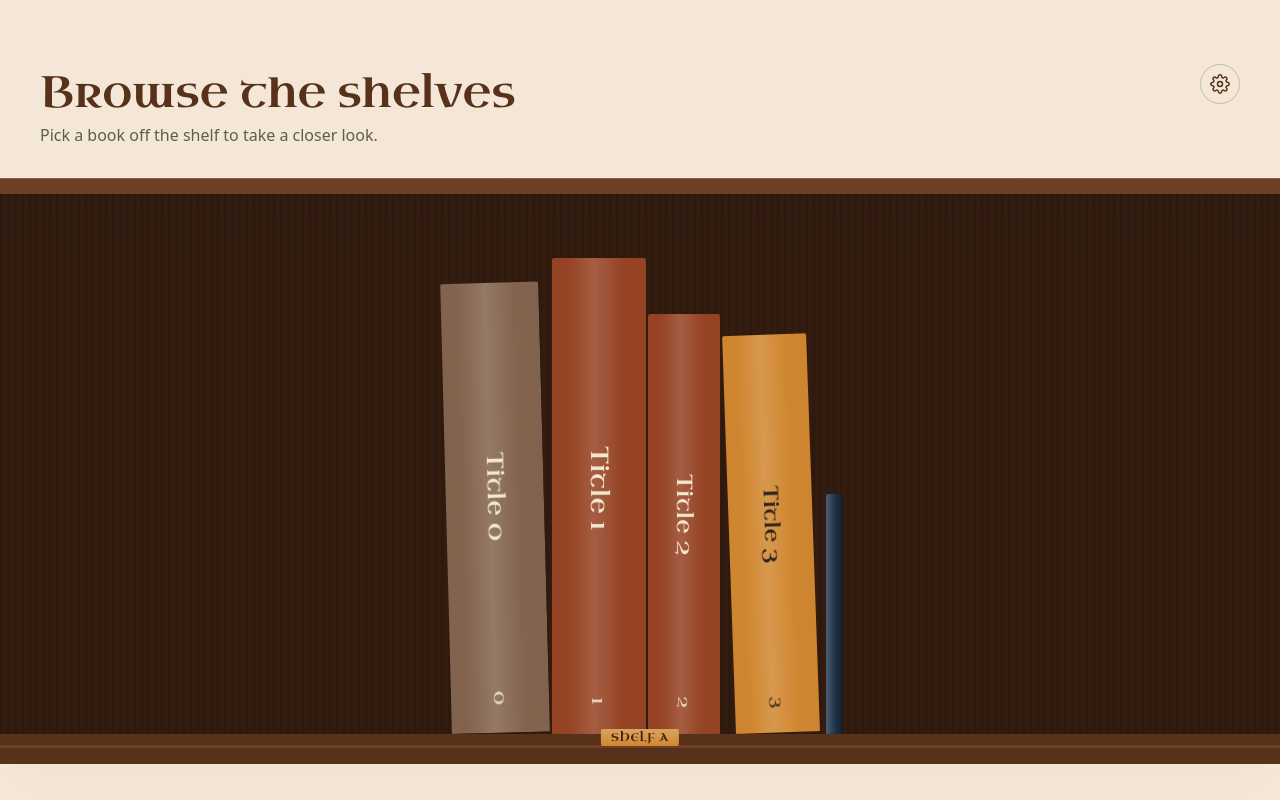
data from a catalogue › renders books that have only the required fields
The width and height of the screenshot is (1280, 800).
Click the button "Title 0 Author 0 Title 0 0".
click(495, 508)  # box [440,282,550,734]
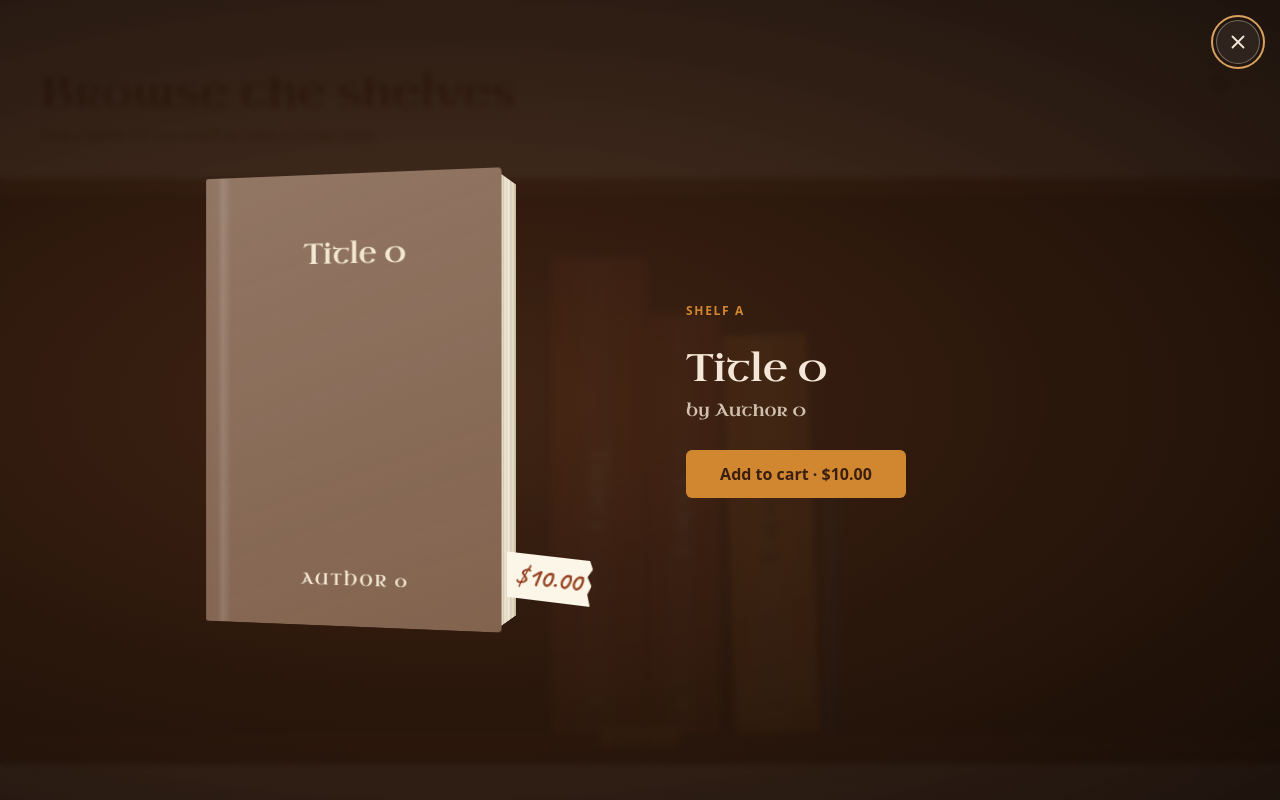
Expected: the heading reads "Title 0", [686,343,828,394]
